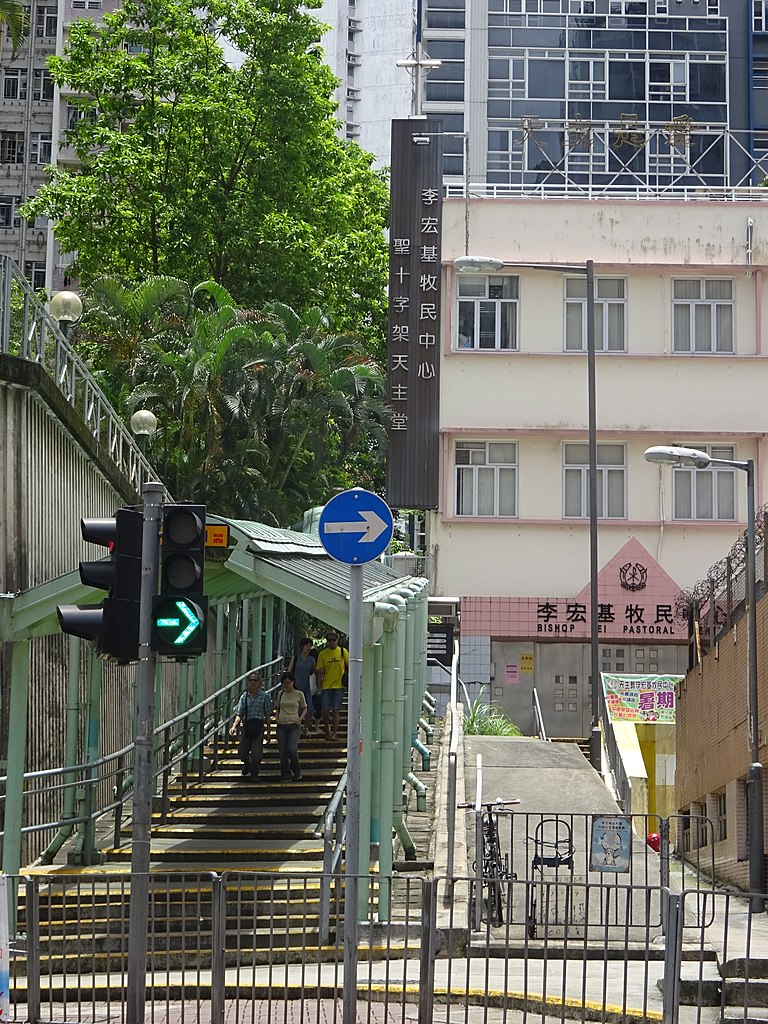Turn Right: (311, 485, 397, 569)
